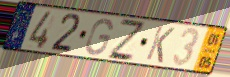2: (48, 12, 81, 55)
3: (171, 27, 202, 69)
4: (27, 10, 54, 50)
G: (84, 17, 114, 57)
K: (144, 24, 177, 65)
Z: (106, 16, 146, 62)
